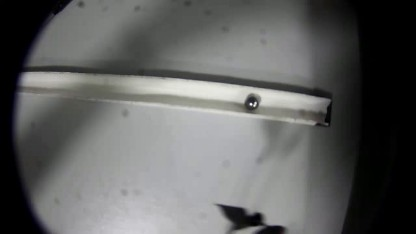gangzhu: (243, 91, 261, 112)
